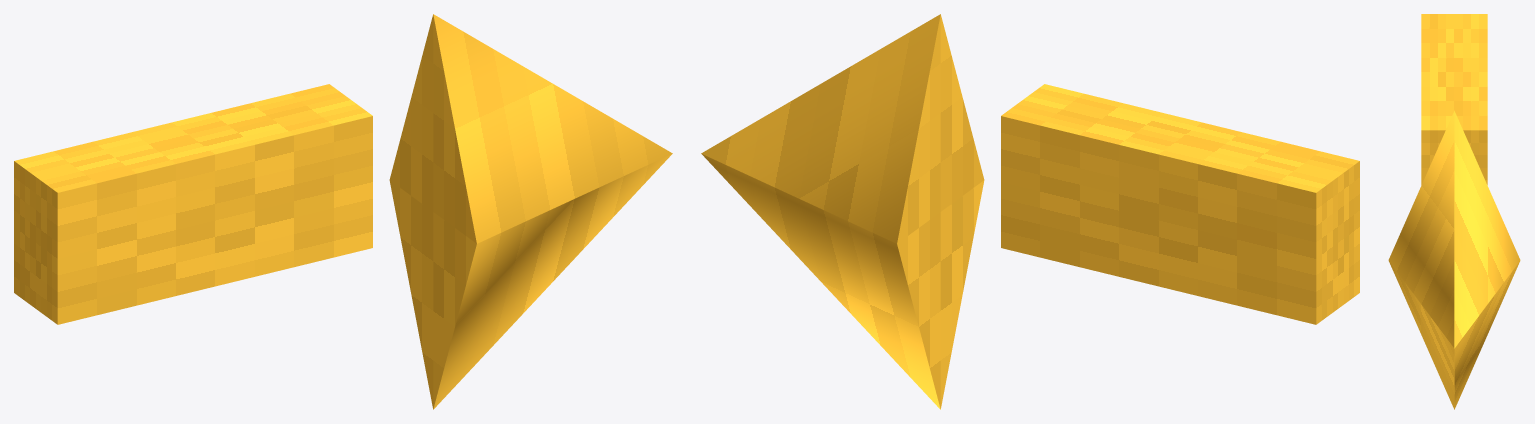
File: flecha.glb
3 views of the same model, side by side, from view 1: azimuth 30°, elevation 25°; view 2: azimuth 150°, elevation 25°; view 3: azimuth 270°, elevation 25° (orthographic). The views are drawn at different scales.
Visible parts, largest first — view 1: flecha; view 2: flecha; view 3: flecha.
Boxes of the visible parts, x1,y1,x2,y2 form: flecha: (14,14,672,409); flecha: (701,14,1359,409); flecha: (1388,14,1520,409).
Size of the model in its own units: 1.01 by 0.6 by 0.24.
1 material, 1 textured.
